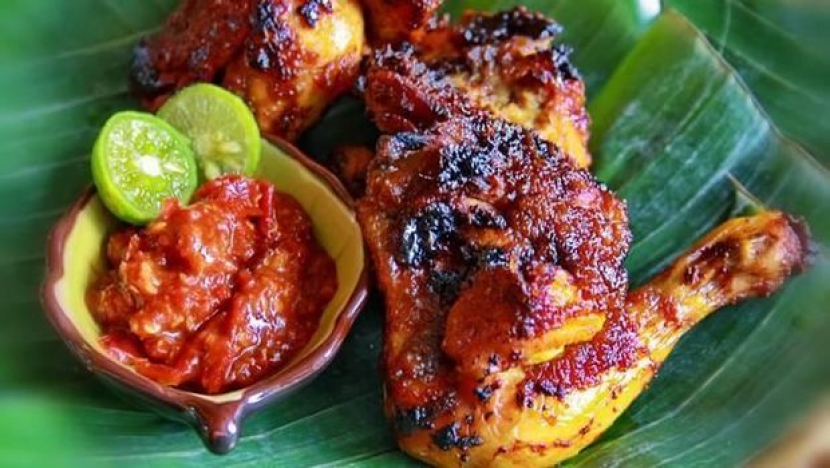Ayam: (330, 135, 808, 465)
